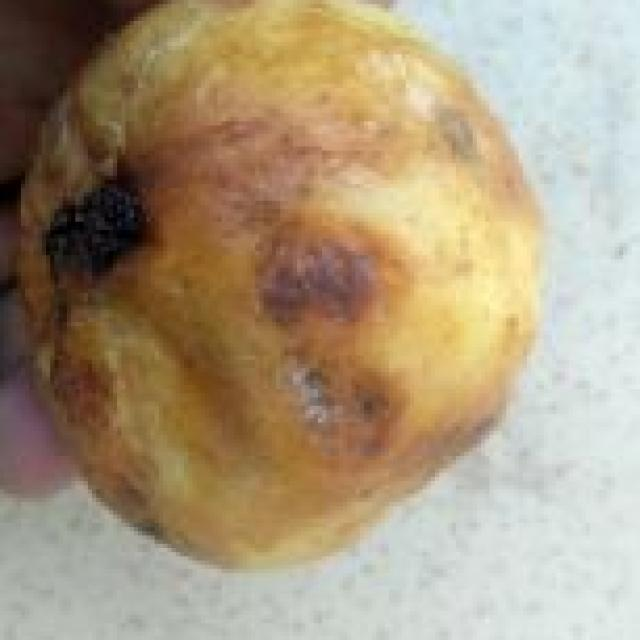Bad_Guava 0 day: (17, 0, 542, 564)
